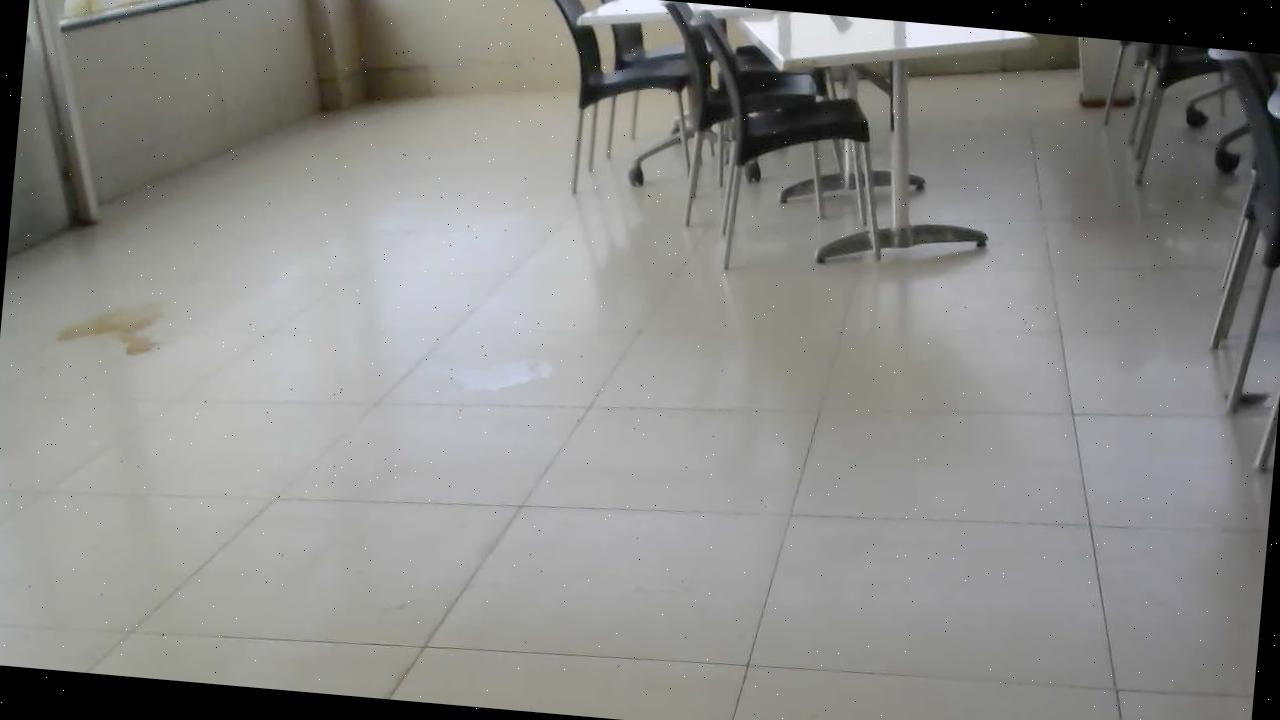dirty_floor: (50, 284, 172, 367), (430, 345, 561, 401)
